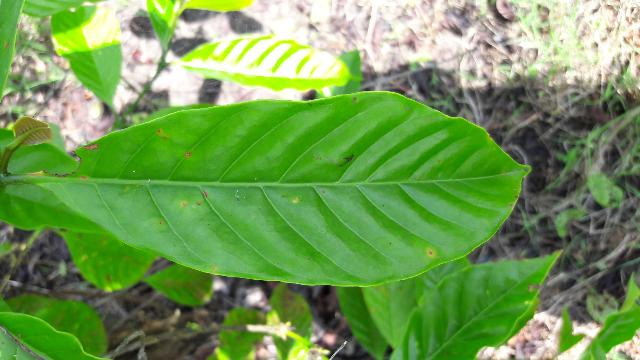rust_level_1: (23, 91, 528, 284)
